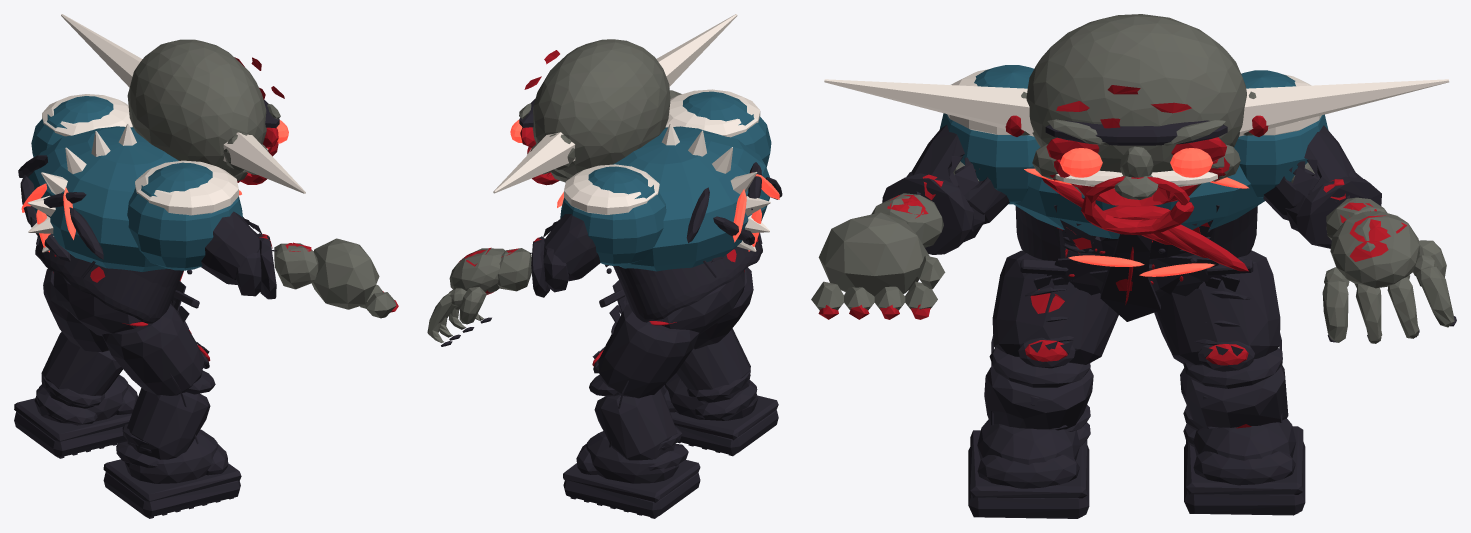
The model's file is inf.mega-alpha-ashen.glb.
The picture shows the model from 3 angles, left to right: view 1: azimuth 30°, elevation 25°; view 2: azimuth 150°, elevation 25°; view 3: azimuth 270°, elevation 25°; orthographic projection. The views are drawn at different scales.
Visible parts, largest first — view 1: torso, head, footR, legR, shinR, footL, shinL, handR, foreArmR, armR, hip, legL; view 2: torso, head, footL, legL, shinL, shinR, footR, handL, foreArmL, armL, hip, legR; view 3: head, torso, handL, footR, footL, handR, legL, legR, shinR, shinL, foreArmR, foreArmL (+2 smaller).
Part boxes in pixels (x1,y1,x2,y2): torso: (18, 94, 242, 323); head: (61, 14, 305, 193); footR: (103, 429, 241, 518); legR: (102, 304, 210, 443); shinR: (116, 370, 215, 468); footL: (14, 375, 137, 458); shinL: (36, 331, 122, 425); handR: (311, 238, 398, 318); foreArmR: (235, 233, 318, 299); armR: (201, 211, 261, 284); hip: (53, 272, 142, 336); legL: (43, 268, 108, 352); torso: (557, 89, 782, 323); head: (493, 14, 737, 193); footL: (563, 431, 700, 518); legL: (592, 304, 699, 447); shinL: (589, 374, 688, 470); shinR: (676, 328, 757, 419); footR: (661, 373, 778, 456); handL: (427, 247, 505, 346); foreArmL: (497, 236, 568, 297); armL: (543, 214, 600, 281); hip: (651, 270, 744, 334); legR: (693, 267, 753, 349); head: (824, 14, 1449, 235); torso: (939, 65, 1328, 321); handL: (1322, 211, 1456, 343); footR: (968, 419, 1089, 518); footL: (1184, 418, 1305, 515); handR: (811, 212, 945, 319); legL: (1154, 250, 1282, 422); legR: (991, 250, 1118, 425); shinR: (984, 347, 1093, 446); shinL: (1180, 348, 1288, 446); foreArmR: (871, 172, 984, 254); foreArmL: (1285, 169, 1387, 248).
Bounding box in the file's own units: 1.69 × 2.58 × 2.96.
